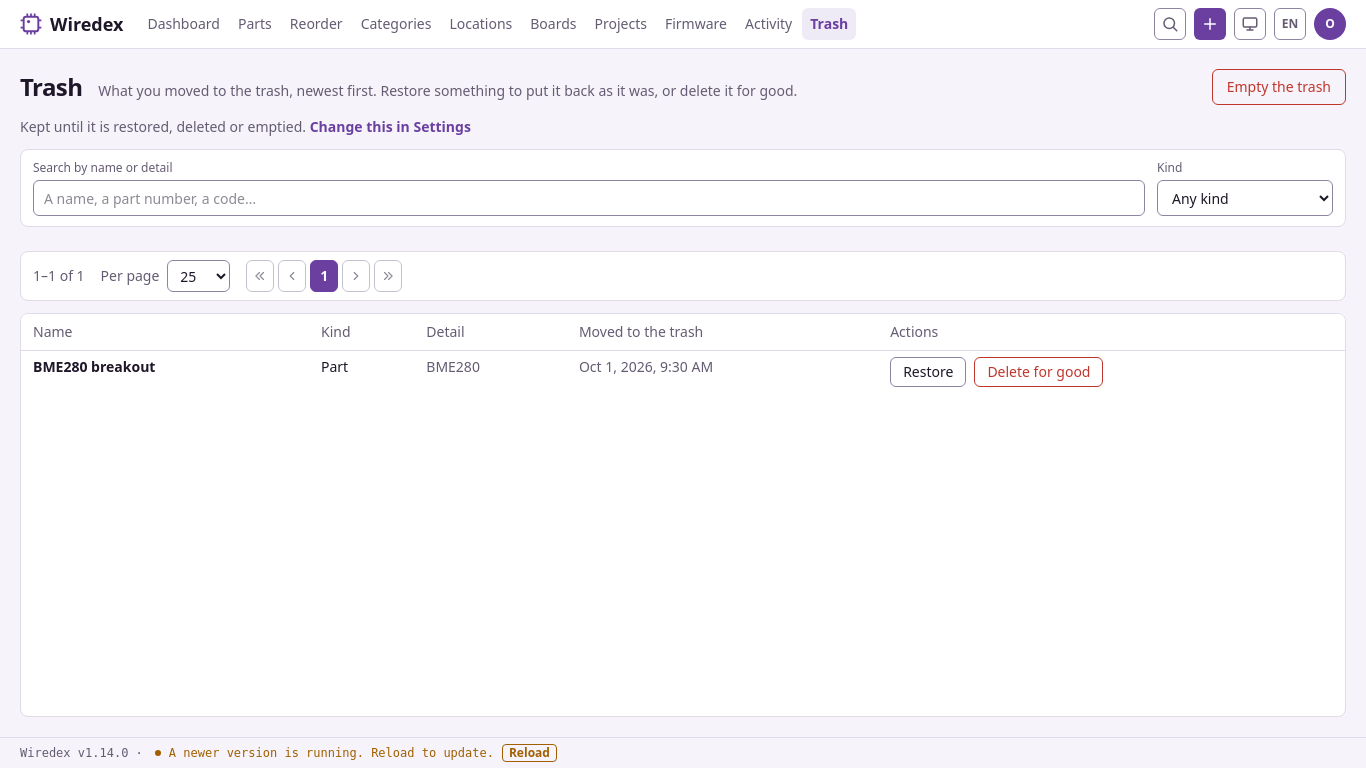
Test: TrashPage › says a delete for good didn't happen, and keeps the record listed
This screenshot has width=1366, height=768.
Click the button with aria-label "Delete BME280 breakout for good": [1039, 372] box [974, 357, 1104, 387]
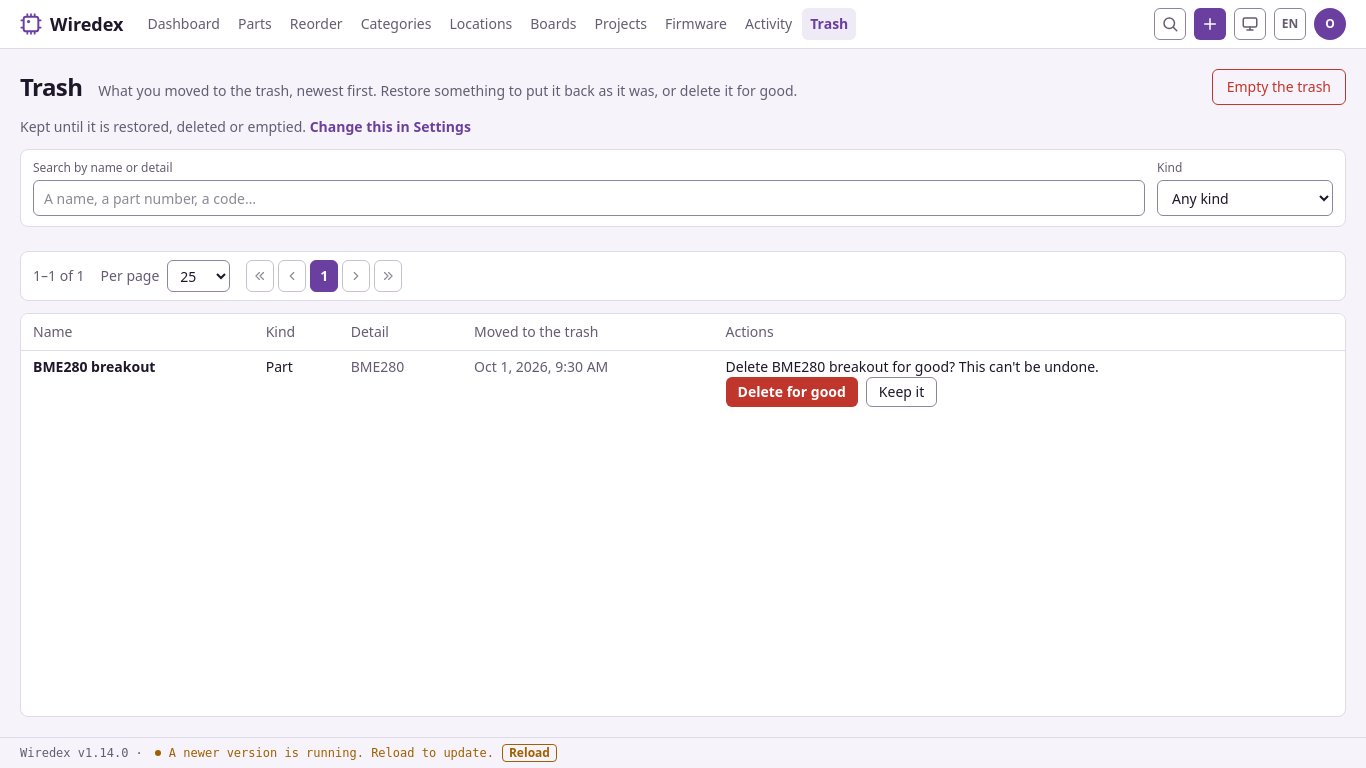
Click the button "Delete for good": [792, 392] box [726, 377, 858, 407]
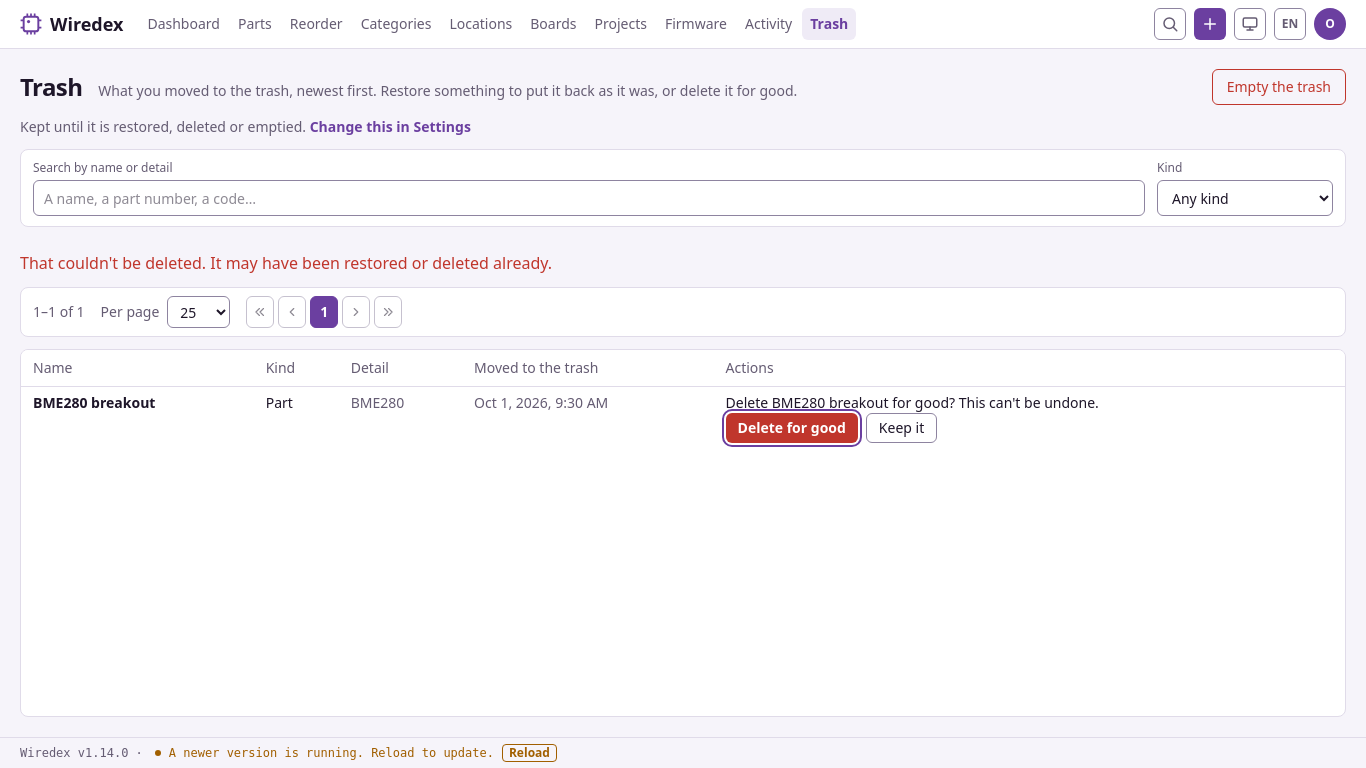
Expected: the column heading "BME280 breakout" is shown, [21, 387, 254, 449]
Now the message "That couldn't be deleted. It may have been restored or deleted already." is shown, box [20, 252, 552, 274]
